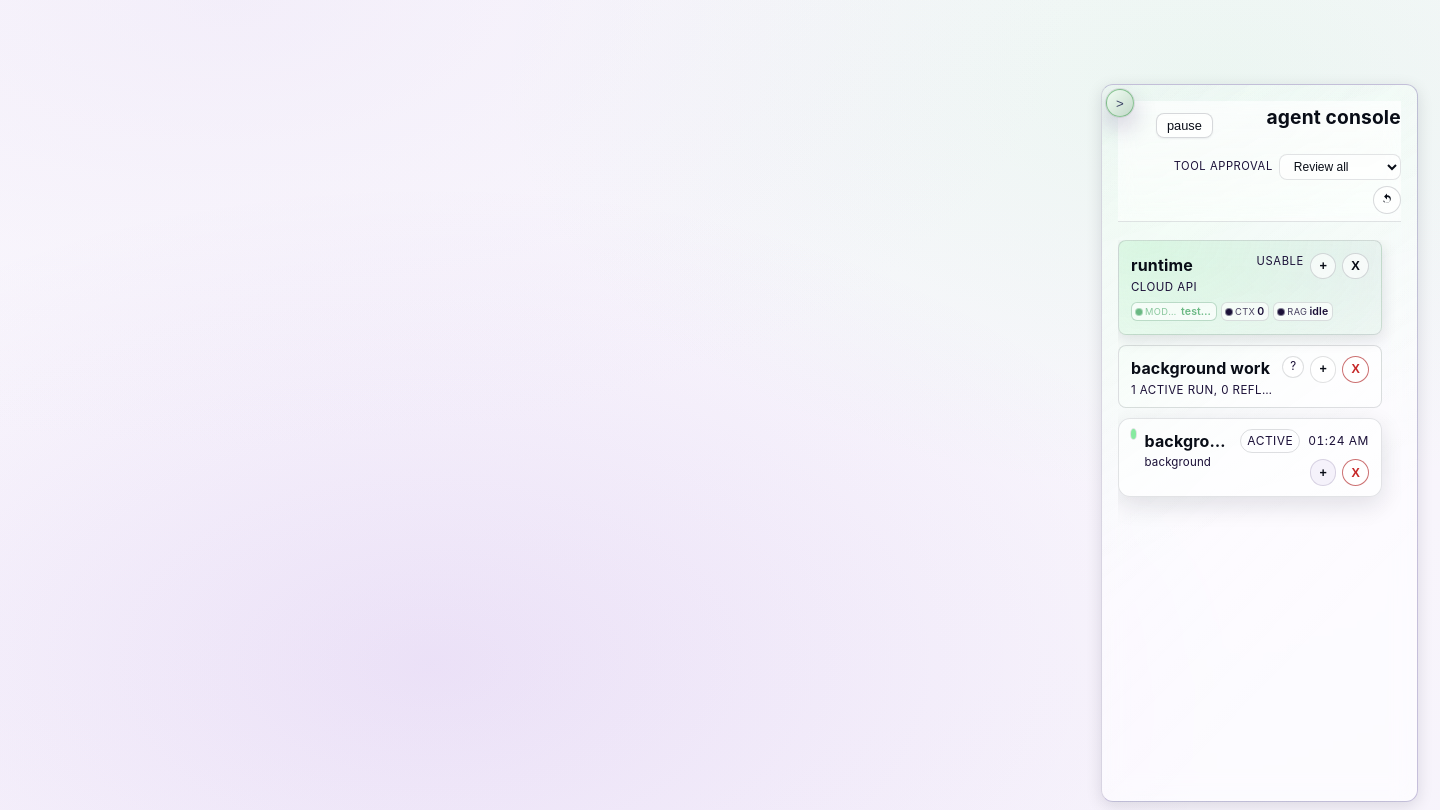
AgentConsole › deduplicates background task records and keeps the merged card compact by default
Check: the heading "Background runner" is shown, box 1145,430 -> 1228,454
Check: the text titled "1 active run, 0 reflections, 0 worker jobs" is shown, box 1131,382 -> 1273,400
Click the button named "expand agent card": [1323, 473] box 1310,460 -> 1337,486
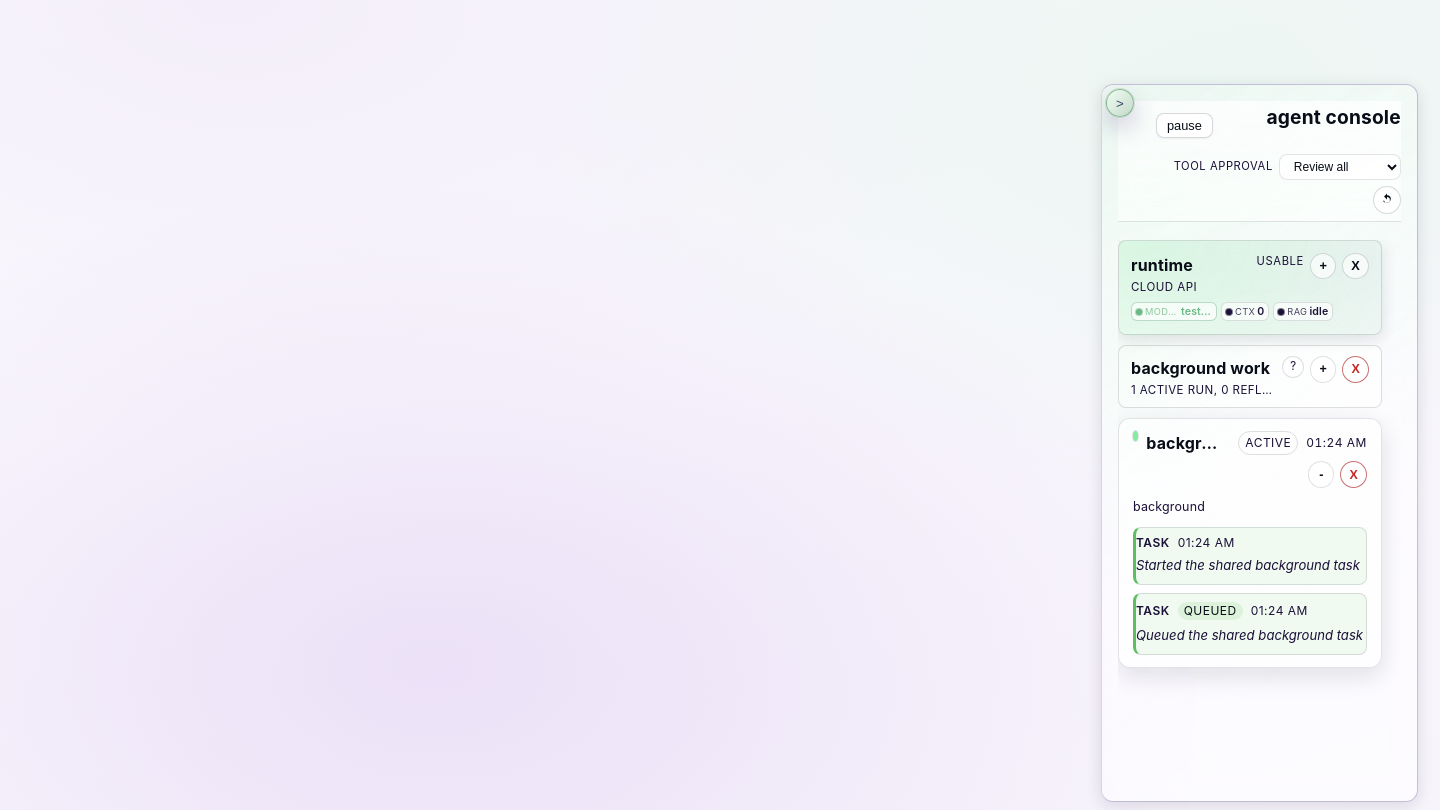
Check: the text "Queued the shared background task" is shown, box 1136,626 -> 1366,646
Check: the text "Started the shared background task" is shown, box 1136,556 -> 1366,576
